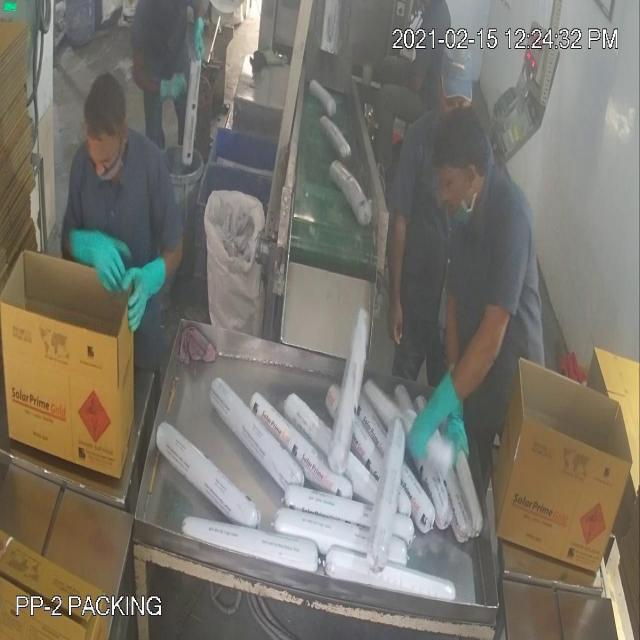Gloves: (26, 89, 434, 412)
